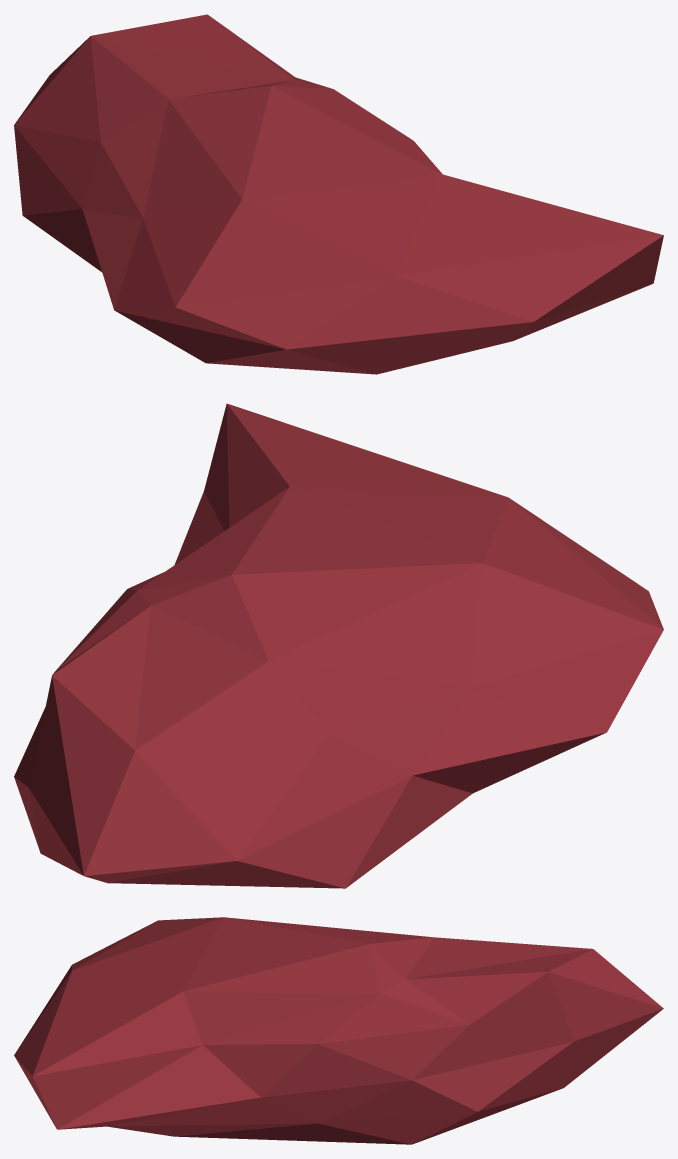
Rendered from liver.fbx.
The picture shows the model from 3 angles, top to bottom: view 1: azimuth 30°, elevation 25°; view 2: azimuth 150°, elevation 25°; view 3: azimuth 270°, elevation 25°; orthographic projection. The views are drawn at different scales.
Parts seen in each view (by area): view 1: Icosphere; view 2: Icosphere; view 3: Icosphere.
Boxes of the visible parts, <box> form: Icosphere: <box>14,14,663,374</box>; Icosphere: <box>14,403,663,888</box>; Icosphere: <box>14,917,663,1144</box>.
Bounding box in the file's own units: 116 × 47.53 × 175.
